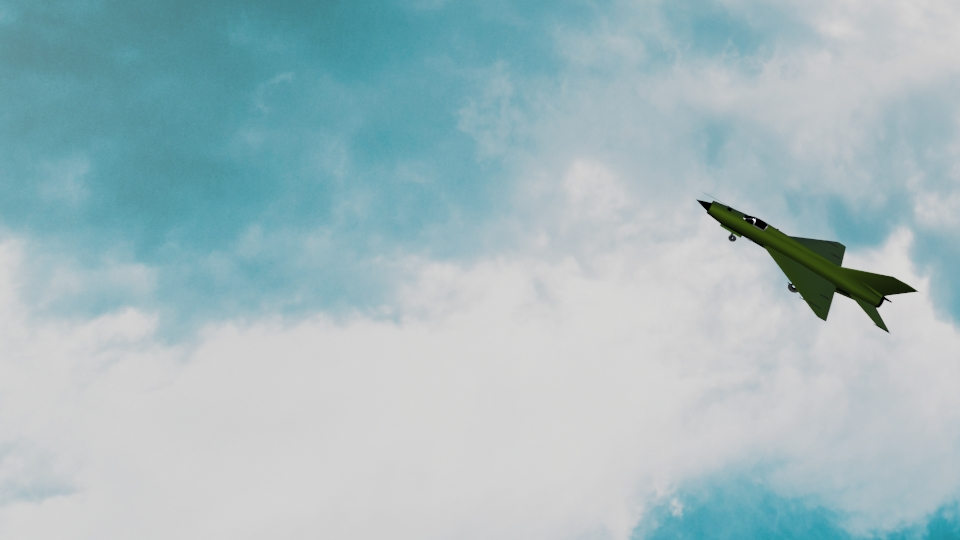plane: (697, 197, 918, 336)
